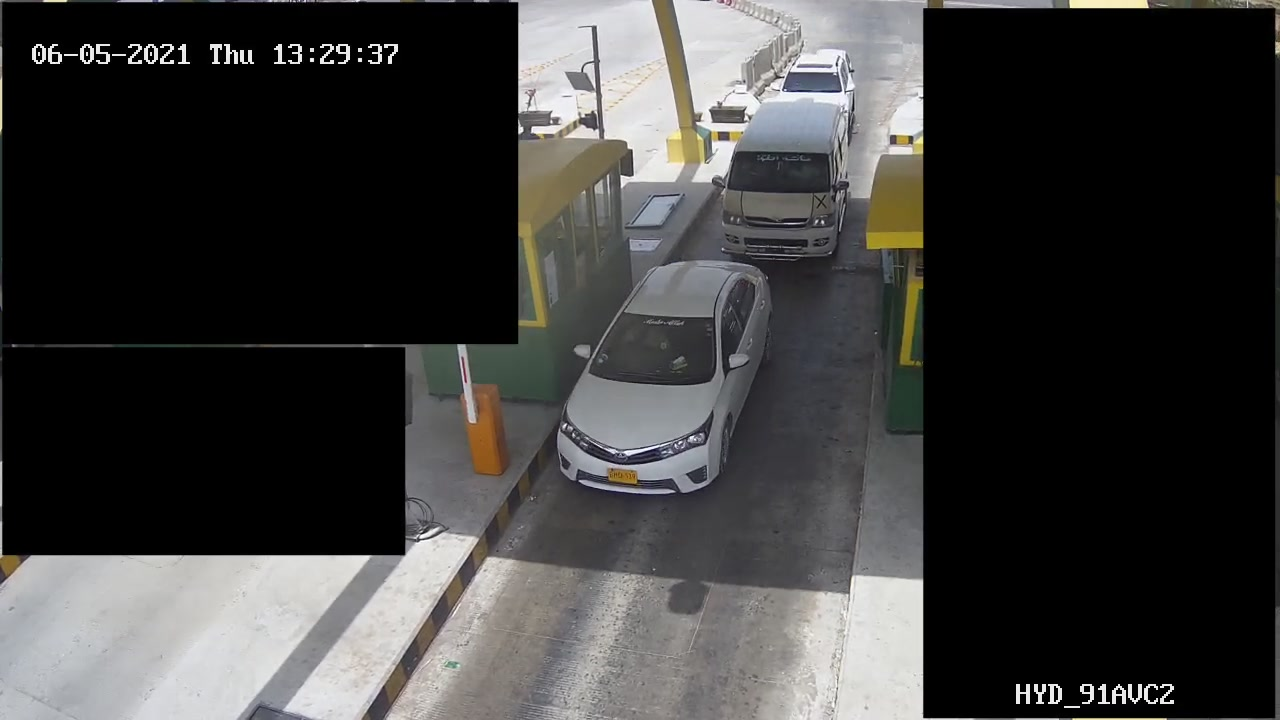F1: (550, 252, 776, 504)
F2: (716, 92, 852, 266)
